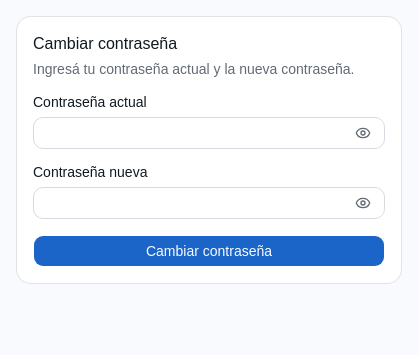
Test case: CambiarPasswordPage › muestra el error del backend y no toca el token si falla
Step 1. Type "temporal123" into the password field labelled "Contraseña actual" → {"x": 209, "y": 133}, box [33,117,385,149]
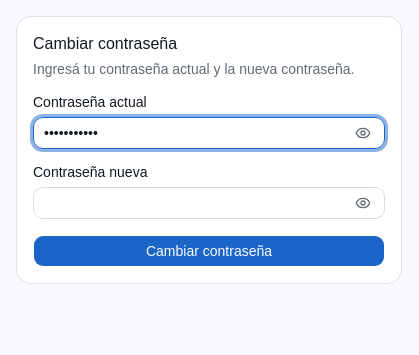
Step 2. Type "unapasswordlarga" into the password field labelled "Contraseña nueva" → {"x": 209, "y": 203}, box [33,187,385,219]
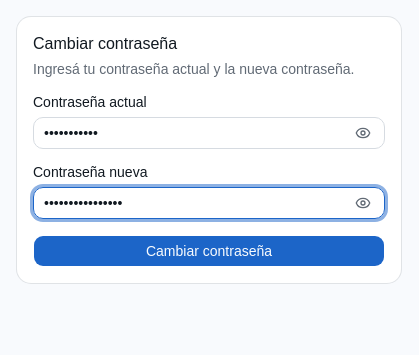
Step 3. Click the button "Cambiar contraseña" → {"x": 209, "y": 251}, box [33,235,385,267]
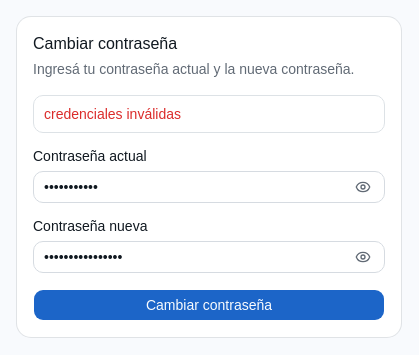
Result: the text "credenciales inválidas" is shown at [44,106,181,122]
